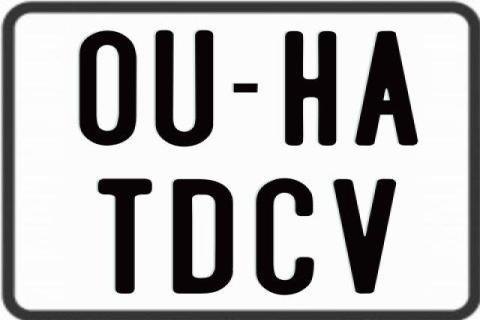0: (77, 29, 137, 149)
A: (353, 31, 421, 149)
C: (254, 176, 312, 293)
D: (172, 178, 232, 296)
H: (285, 30, 337, 144)
T: (96, 178, 152, 298)
U: (152, 28, 214, 144)
V: (330, 177, 399, 293)
